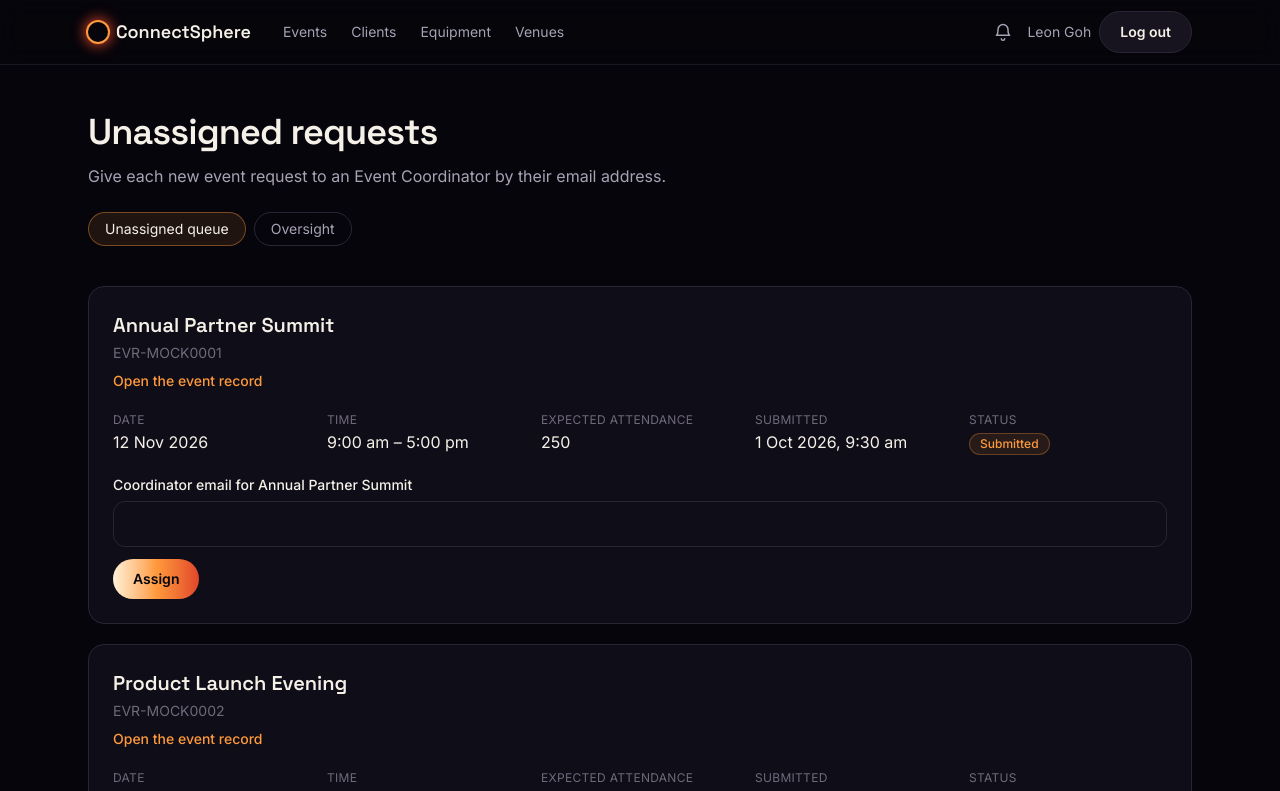
SCRUM-95 the Lead queue screen › clears that message once the Lead assigns another request
This screenshot has width=1280, height=791.
Type "chloe@connectsphere.test" into the field labelled "Coordinator email for Annual Partner Summit" at (640, 524), box [113,501,1167,547]
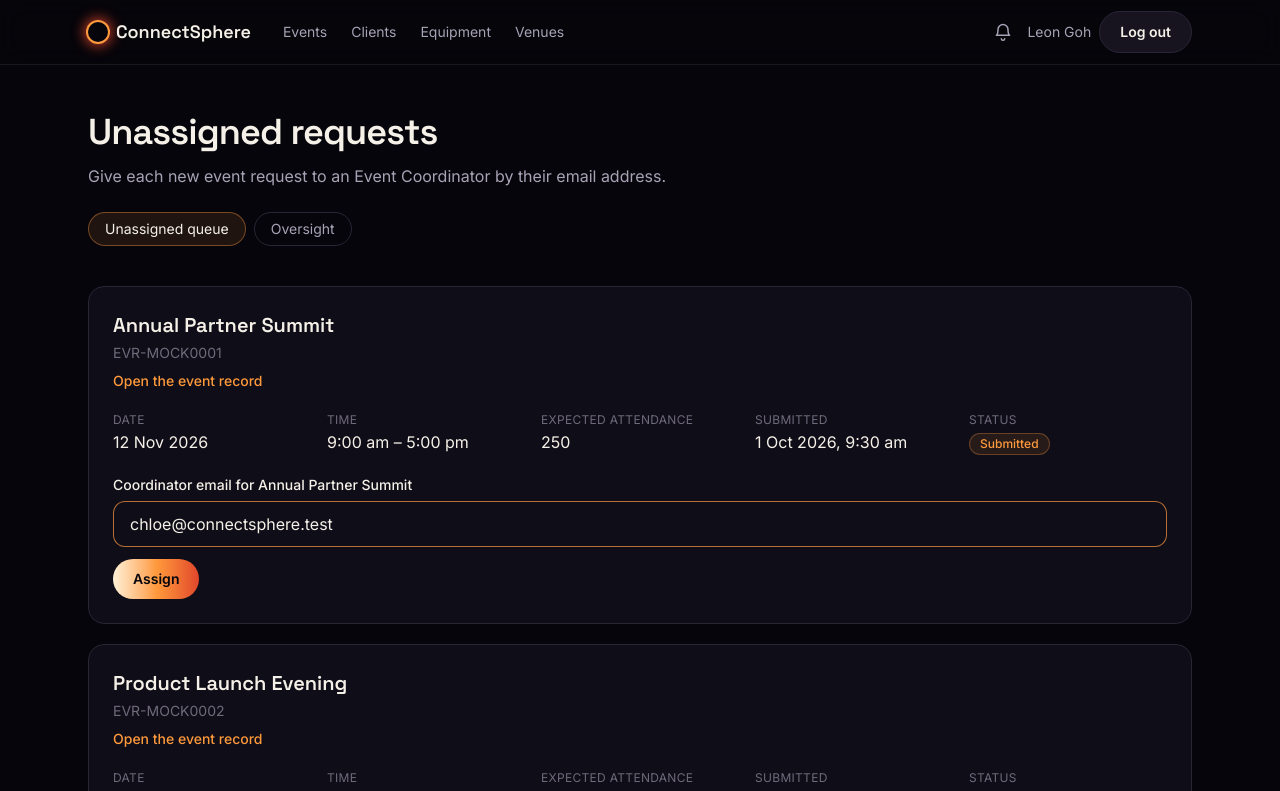
Click the button "Assign" at (156, 579), box [113,559,200,599]
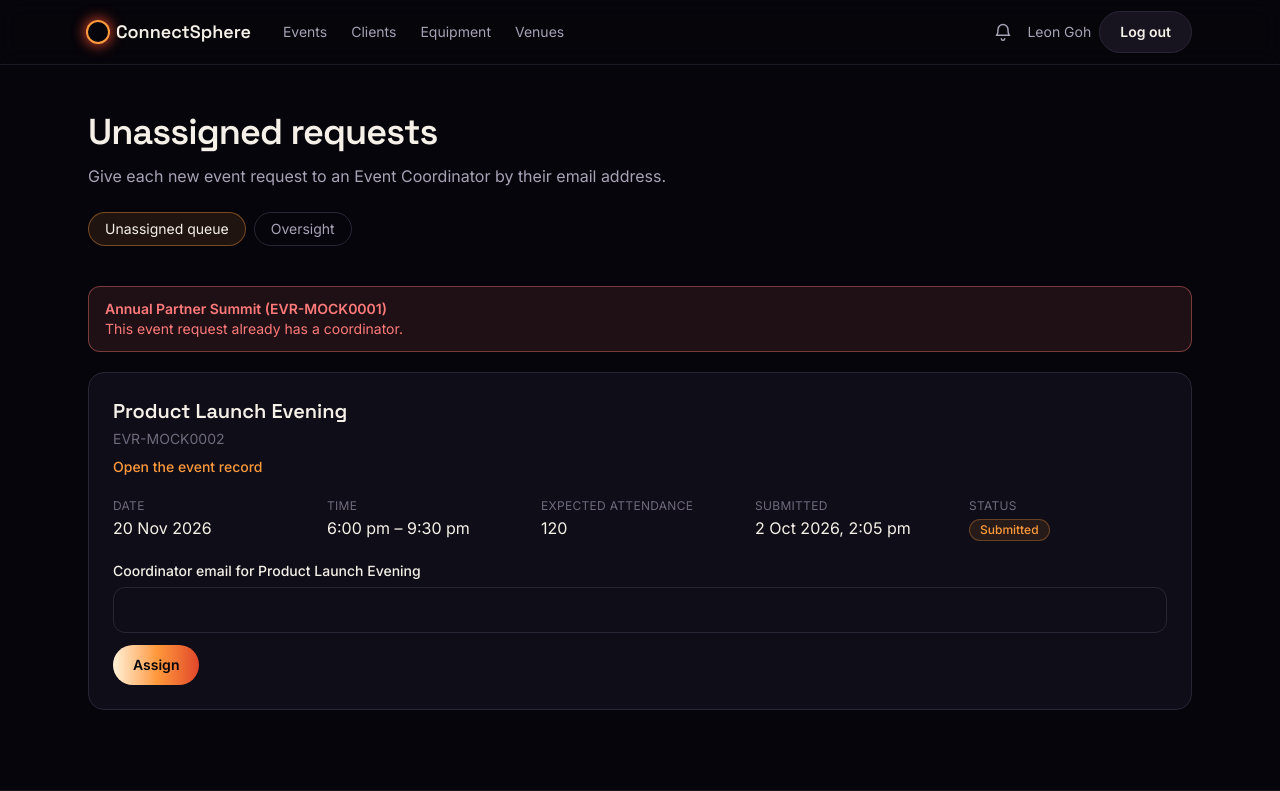
Expected: the message is shown, [88,286,1192,352]
Type "chloe@connectsphere.test" into the field labelled "Coordinator email for Product Launch Evening" at (640, 610), box [113,587,1167,633]
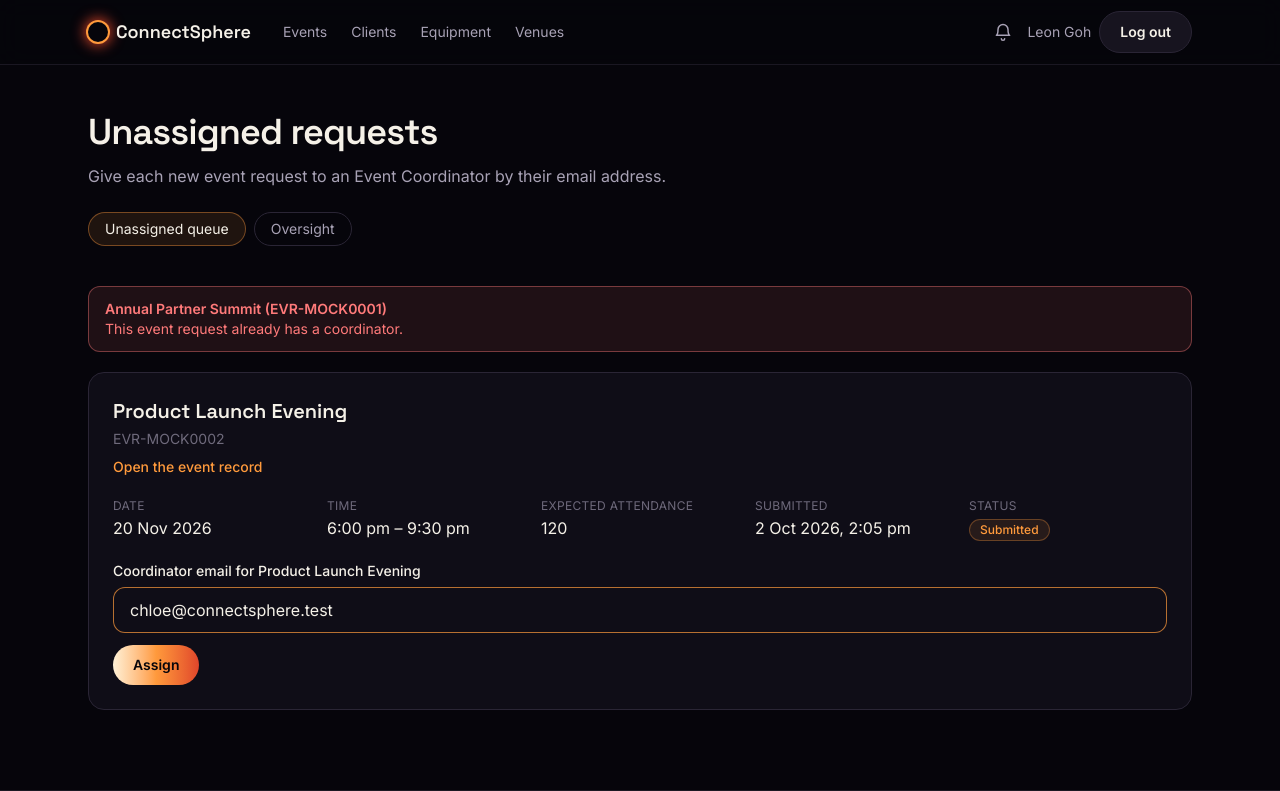
Click the button "Assign" at (156, 665), box [113,645,200,685]
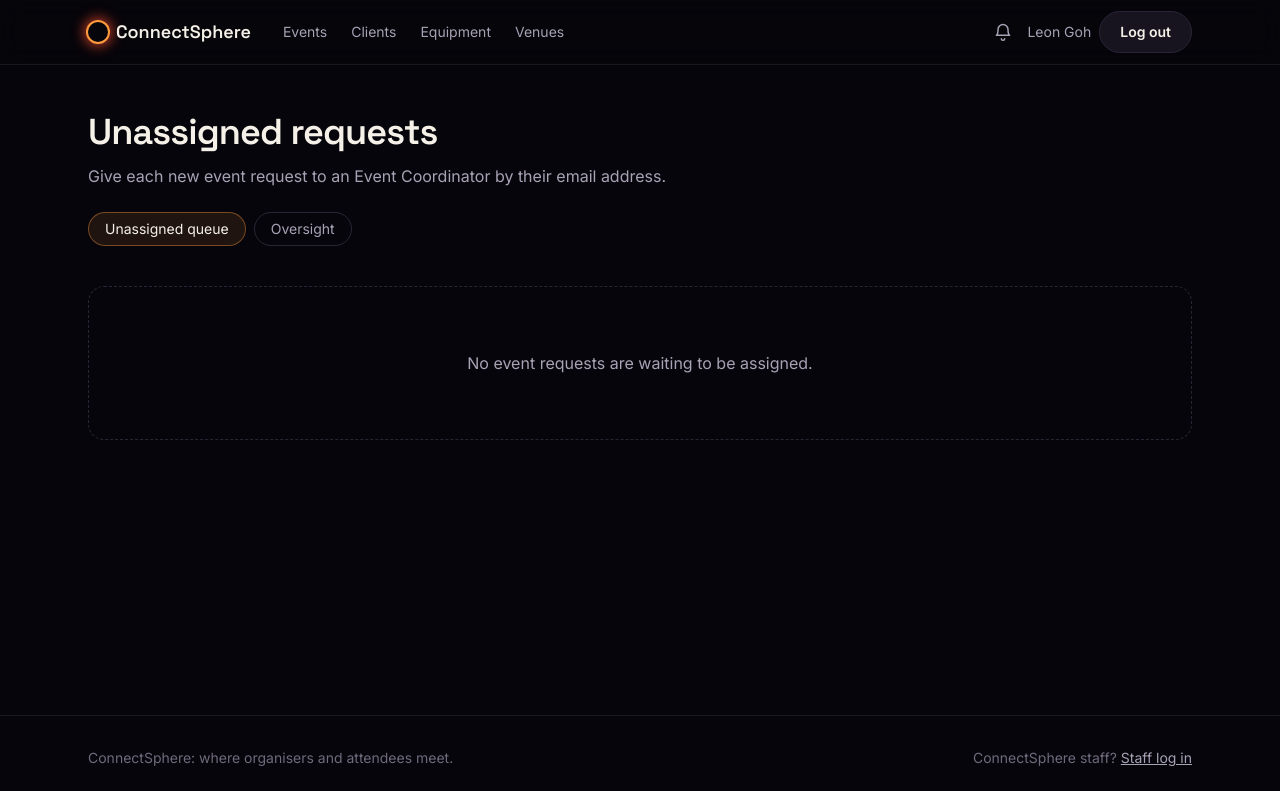
Expected: the heading "Product Launch Evening" is gone
Expected: the message is gone
